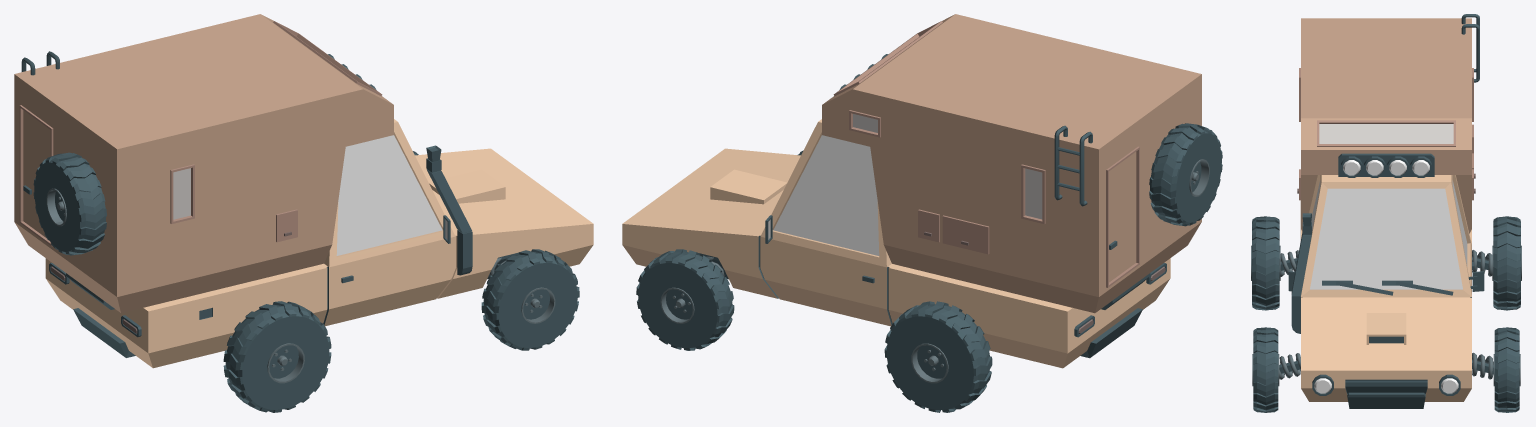
File: Jeep_done_2.fbx
3 views of the same model, side by side, from view 1: azimuth 30°, elevation 25°; view 2: azimuth 150°, elevation 25°; view 3: azimuth 270°, elevation 25° (orthographic). The views are drawn at different scales.
Visible parts, largest first — view 1: Frame, Rear_wheel.001, Front_wheel.001; view 2: Frame, Rear_wheel, Front_wheel; view 3: Frame, Rear_wheel.001, Rear_wheel, Front_wheel.001, Front_wheel, Spring, Spring.002, Spring.001, Spring.003.
Part boxes in pixels (x1=…): Frame: x1=14, y1=14, x2=593, y2=368; Rear_wheel.001: x1=223, y1=301, x2=331, y2=412; Front_wheel.001: x1=481, y1=249, x2=579, y2=350; Frame: x1=622, y1=14, x2=1222, y2=368; Rear_wheel: x1=884, y1=301, x2=992, y2=412; Front_wheel: x1=636, y1=249, x2=734, y2=350; Frame: x1=1288, y1=14, x2=1484, y2=408; Rear_wheel.001: x1=1251, y1=216, x2=1280, y2=310; Rear_wheel: x1=1492, y1=216, x2=1521, y2=310; Front_wheel.001: x1=1252, y1=327, x2=1279, y2=412; Front_wheel: x1=1493, y1=327, x2=1520, y2=412; Spring: x1=1472, y1=352, x2=1493, y2=379; Spring.002: x1=1279, y1=353, x2=1300, y2=379; Spring.001: x1=1472, y1=250, x2=1492, y2=276; Spring.003: x1=1280, y1=250, x2=1298, y2=276.
Size of what is drawn, in the model's own units: 575 by 310 by 316.
